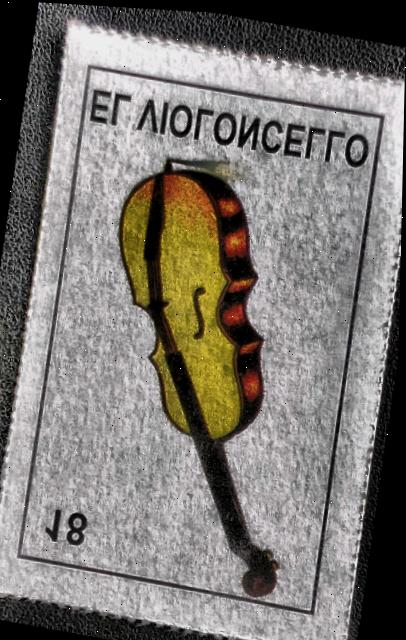El Violoncello: (2, 38, 404, 637)
